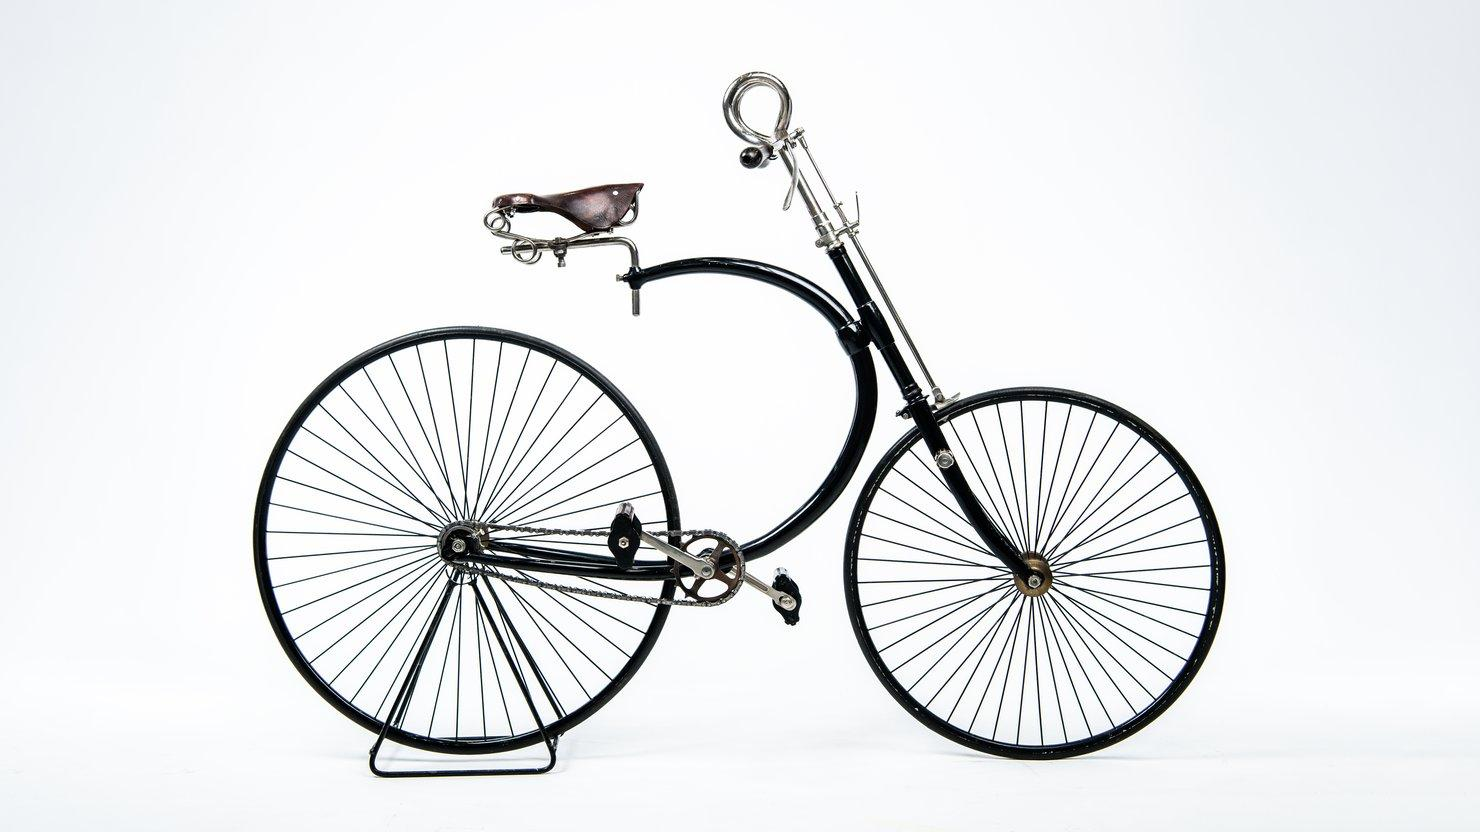bicycle: (247, 63, 1236, 786)
